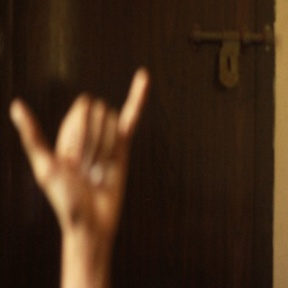J: (9, 64, 151, 236)
